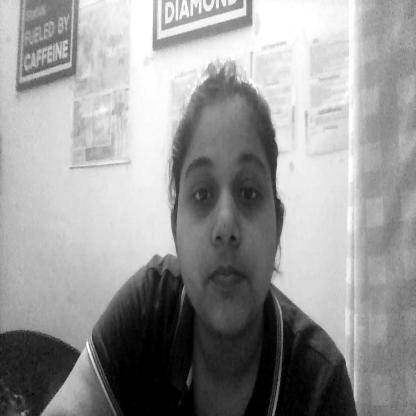Normal: (165, 60, 286, 321)
